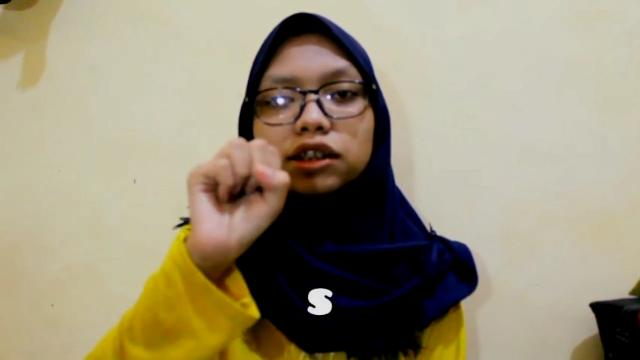S: (186, 138, 292, 244)
